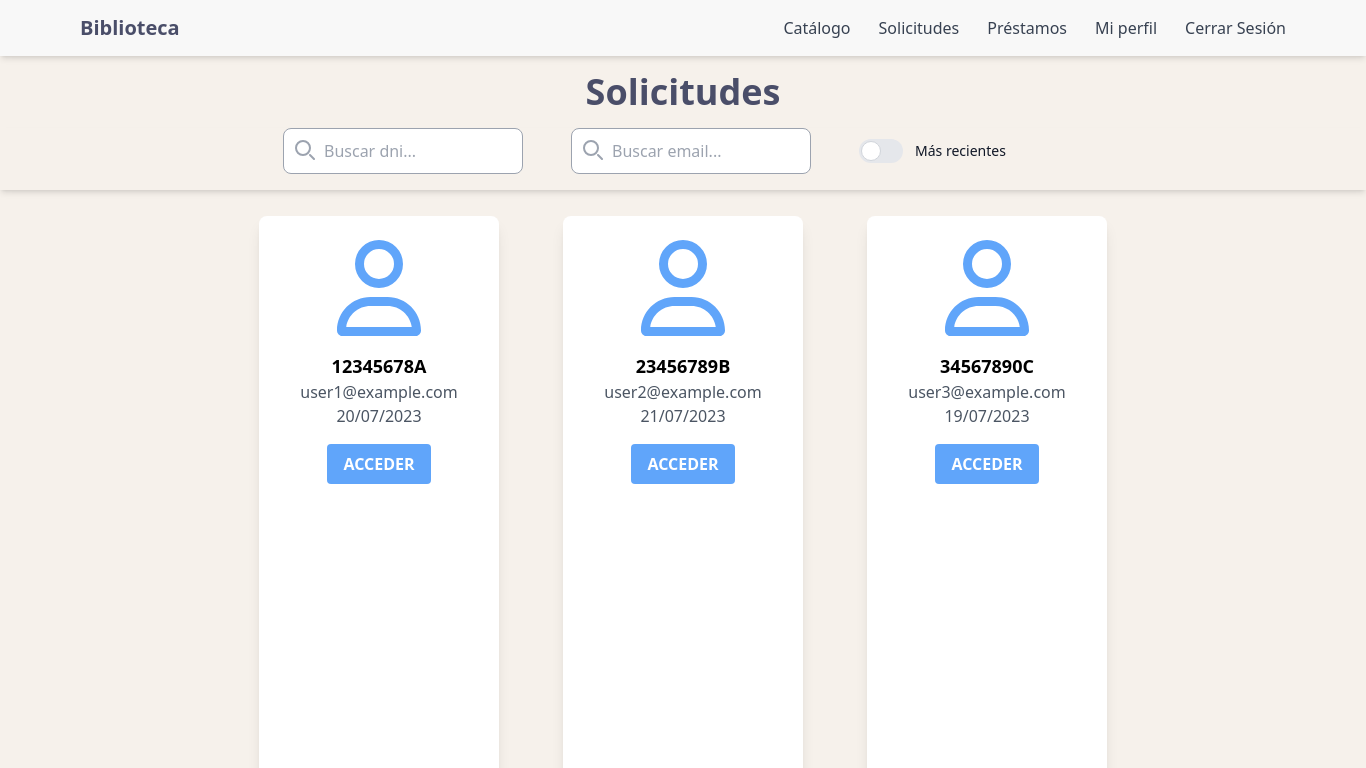
Test: filters users by DNI
Expected: the heading "12345678A" is shown, 332,354 -> 426,378
Expected: the heading "23456789B" is shown, 636,354 -> 730,378
Type "12345678A" into the field with placeholder "Buscar dni...".
click(403, 151); type("12345678A")  # box 283,128 -> 523,174
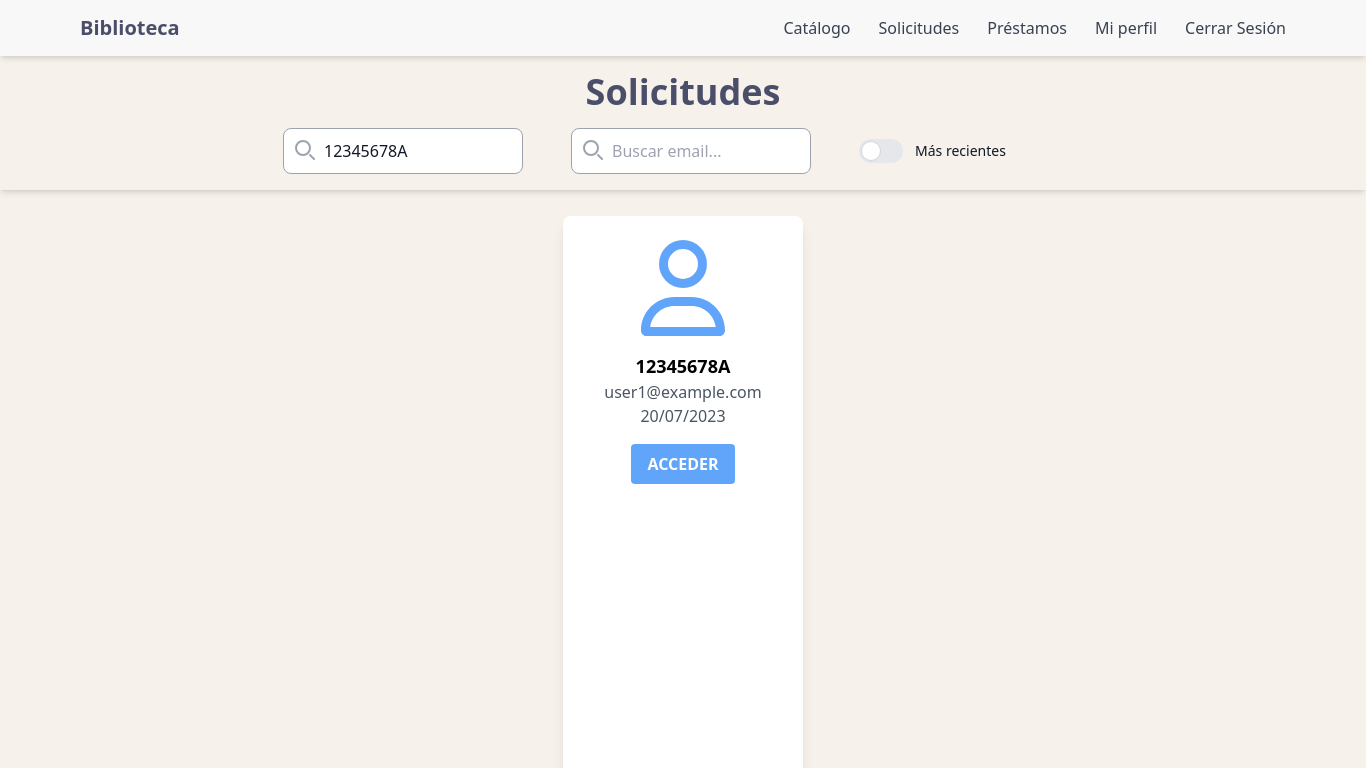
Expected: the heading "12345678A" is shown, 636,354 -> 730,378
Expected: the heading "23456789B" is gone
Expected: the heading "34567890C" is gone
